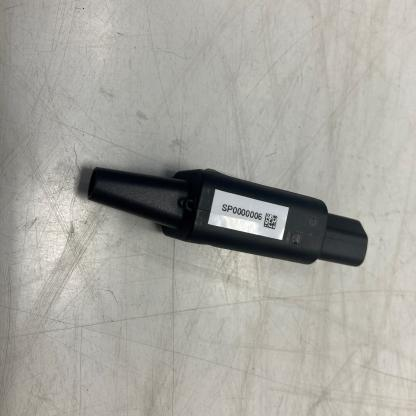SP0000006: (44, 96, 402, 330)
